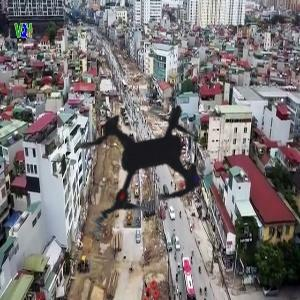drone: (13, 20, 280, 287)
